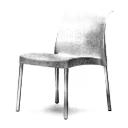chair_success: (3, 2, 126, 128)
